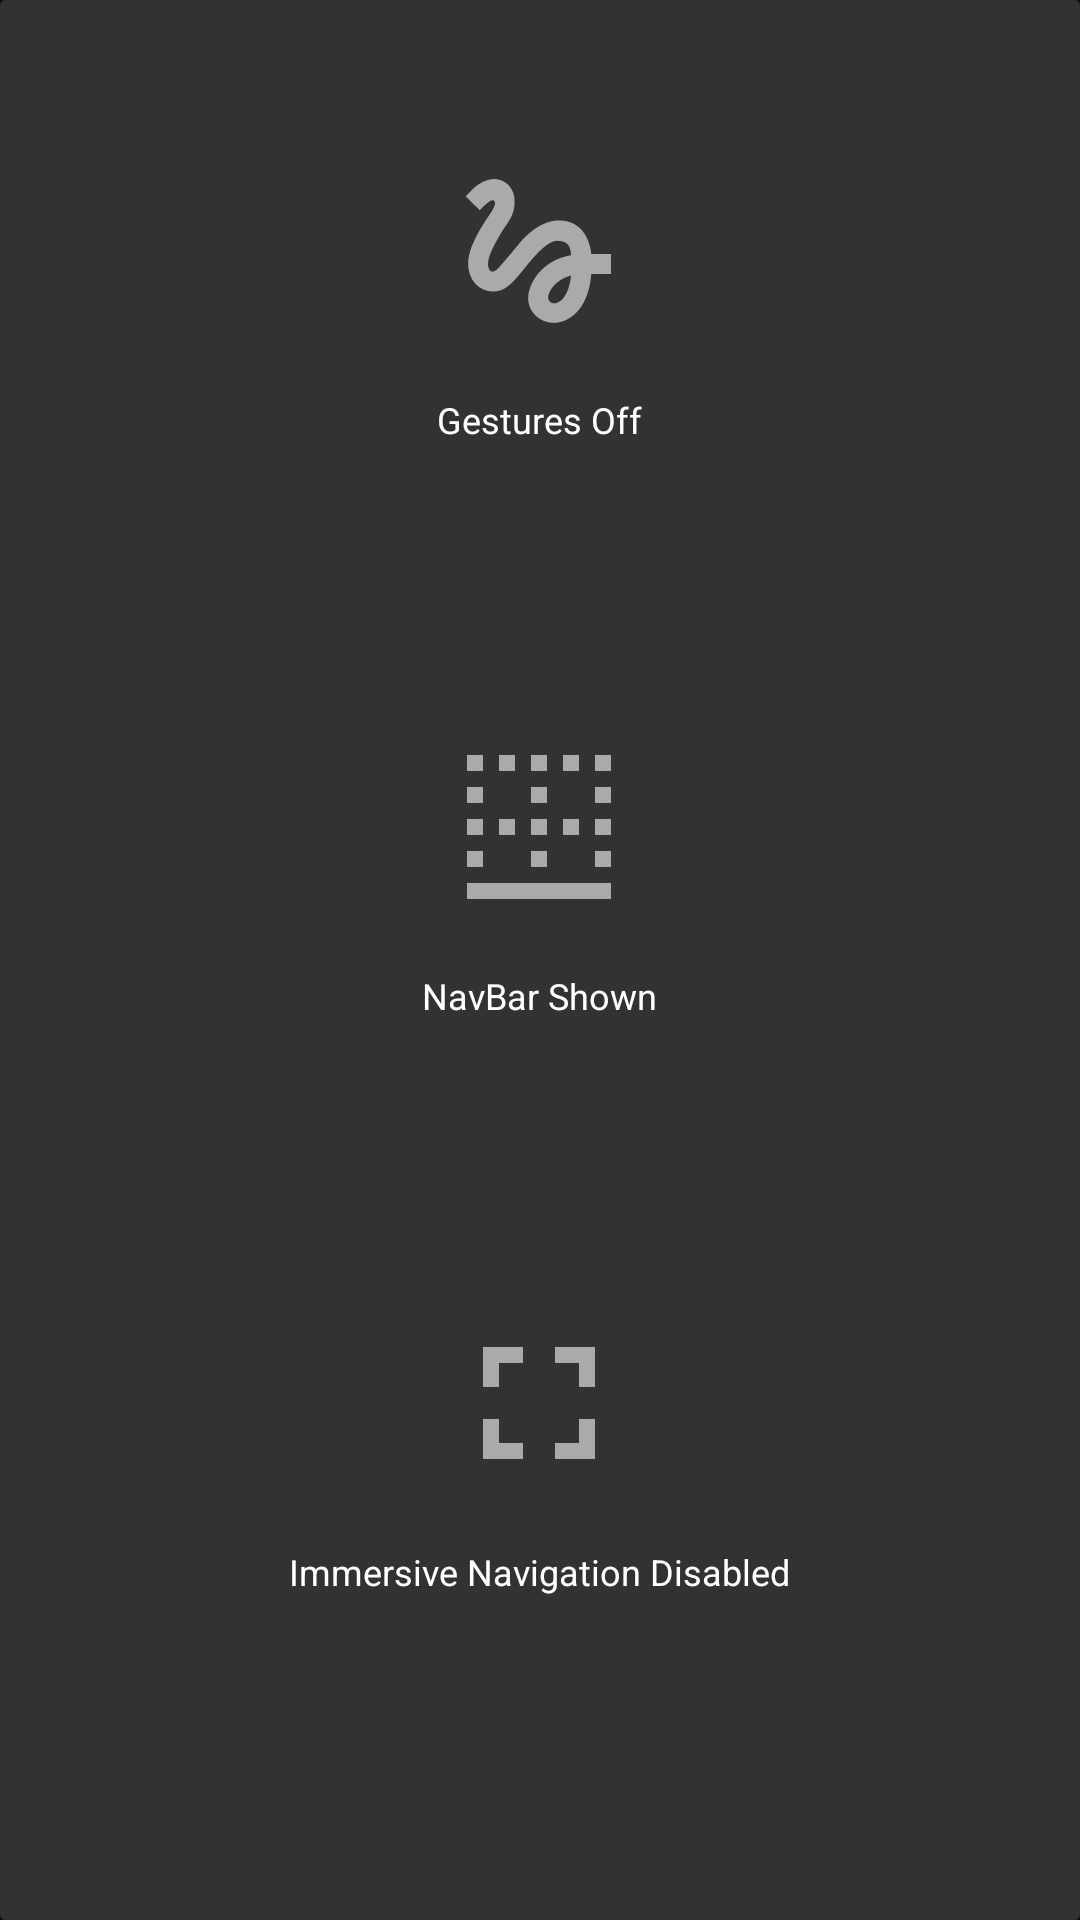

Point at icon controls on the screen. Image size 1080px×1920px, points as [x,y].
border bottom: [539,827]
fullscreen: [539,1403]
